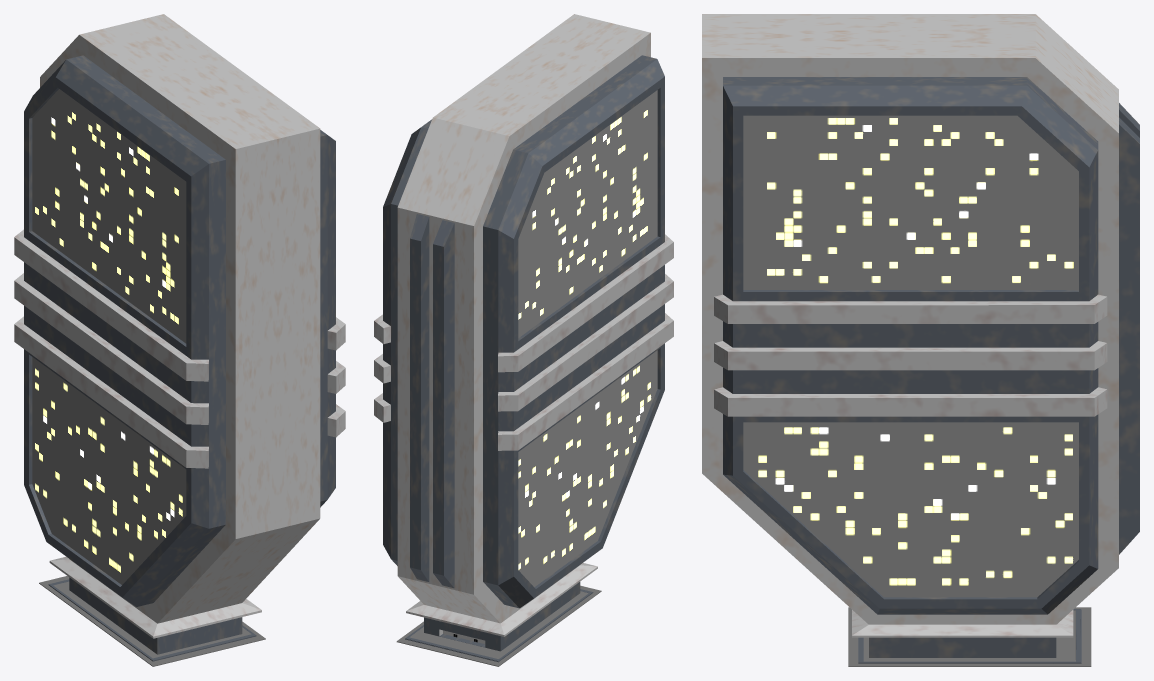
The model's file is Bina 21.fbx.
The picture shows the model from 3 angles, left to right: view 1: azimuth 30°, elevation 25°; view 2: azimuth 150°, elevation 25°; view 3: azimuth 270°, elevation 25°; orthographic projection. The views are drawn at different scales.
Visible parts, largest first — view 1: Generator, GeneratorStand; view 2: Generator, GeneratorStand; view 3: Generator, GeneratorStand.
Part boxes in pixels (box(x1,y1,x2,y2)): Generator: box(14, 14, 345, 654); GeneratorStand: box(39, 576, 265, 666); Generator: box(374, 14, 673, 651); GeneratorStand: box(396, 585, 601, 666); Generator: box(702, 14, 1139, 657); GeneratorStand: box(848, 607, 1091, 666).
Bounding box in the file's own units: 36.32 × 123 × 80.93.
Materials: 3 (3 with a texture image).
